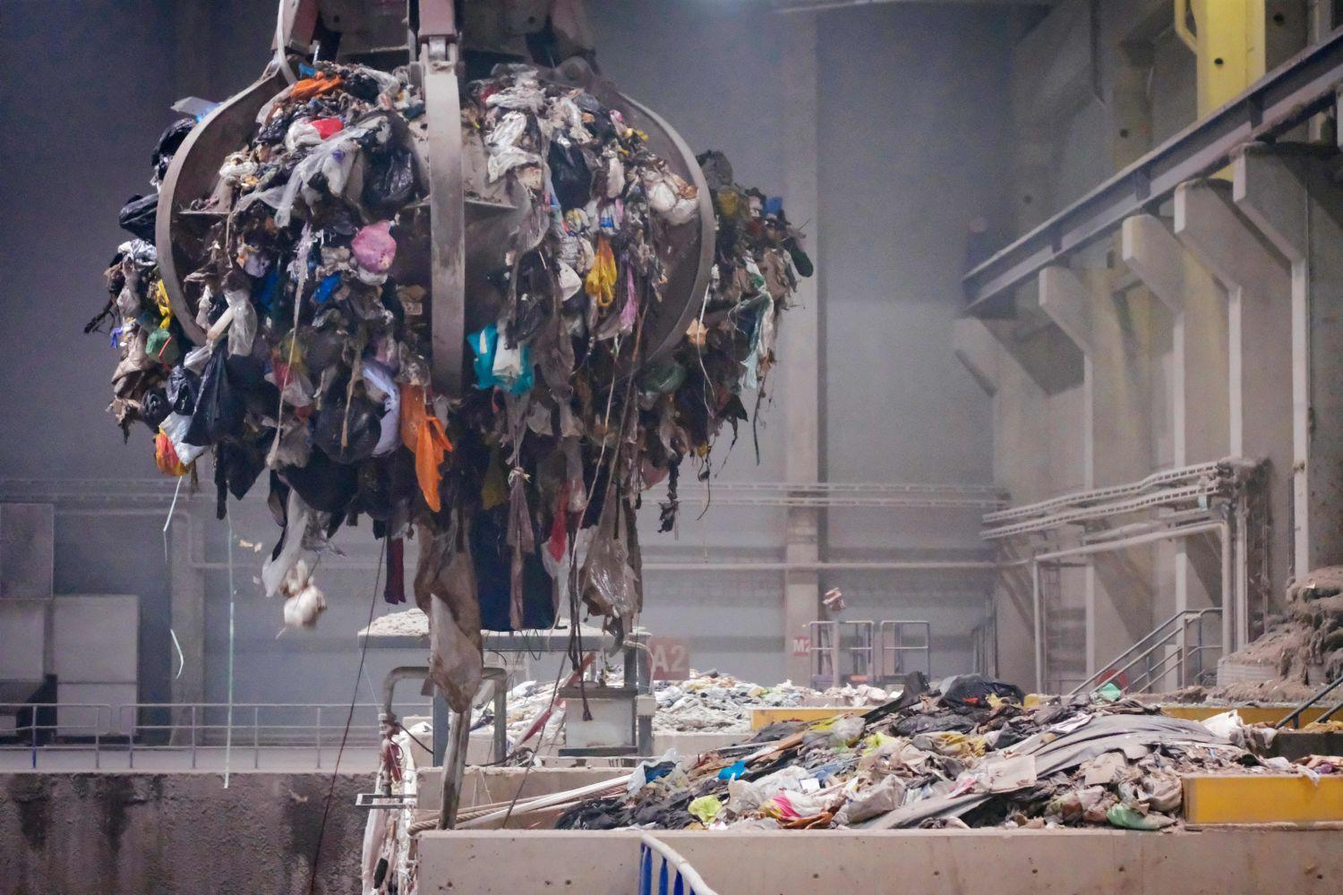garbage: (112, 58, 787, 571), (455, 652, 1343, 836)
